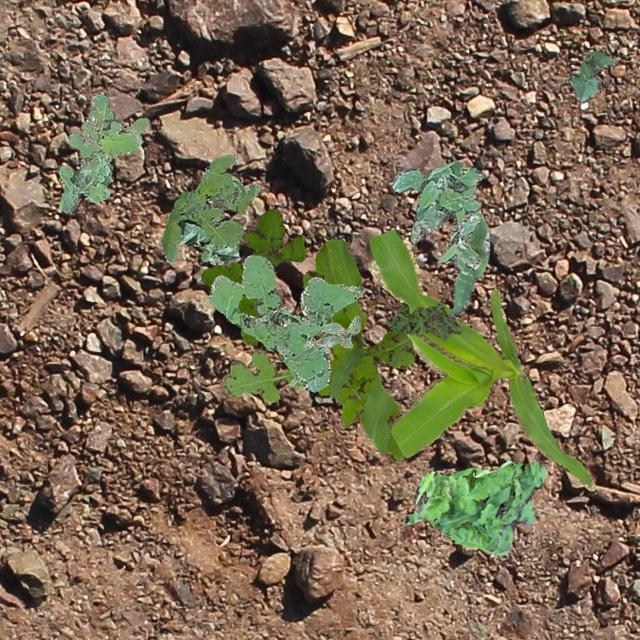crop: (366, 228, 594, 490), (447, 210, 488, 318), (178, 218, 240, 264), (568, 50, 616, 101)
weed: (222, 238, 416, 461), (208, 254, 364, 390), (200, 208, 304, 344), (402, 459, 546, 554), (58, 92, 148, 212), (160, 154, 258, 262), (392, 160, 482, 268), (288, 314, 359, 386), (384, 302, 460, 339)
